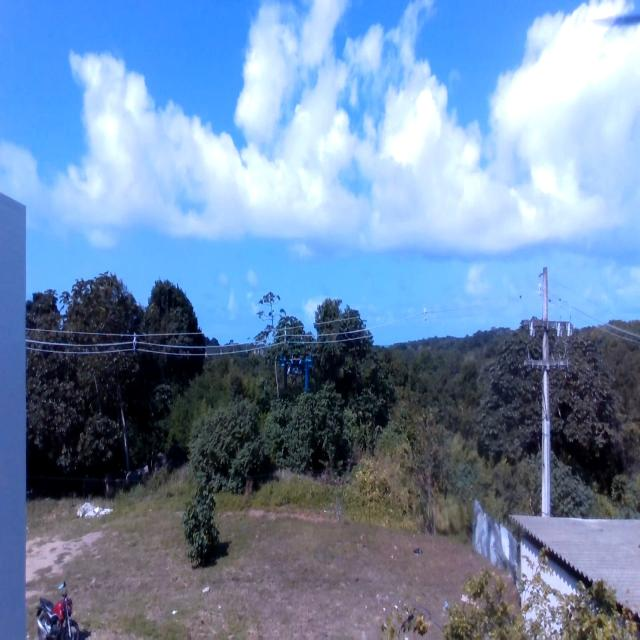-uav-: (271, 336, 321, 398)
